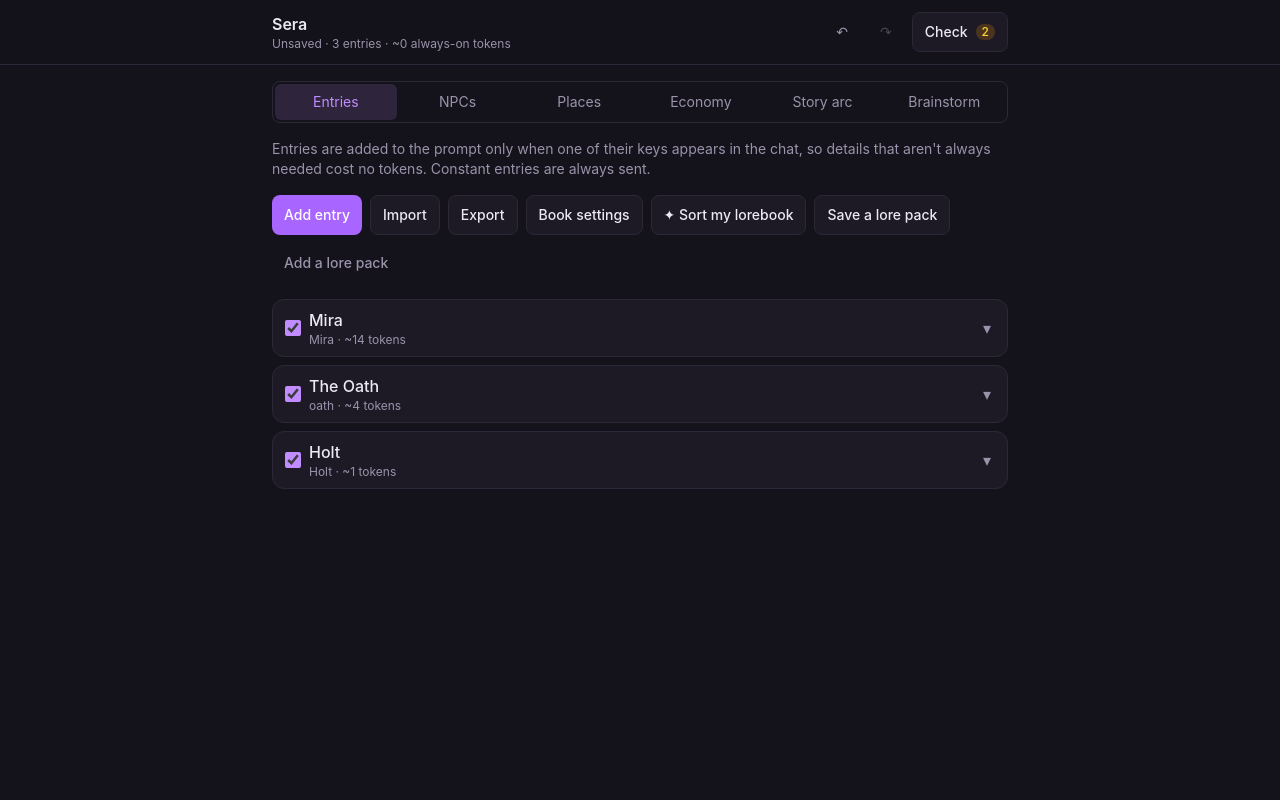
Test: Sort my lorebook › files plain entries under their pages with the co-writer, after review
Click the button "✦ Sort my lorebook". click: coordinates (729, 215)
box: [651,195,806,235]
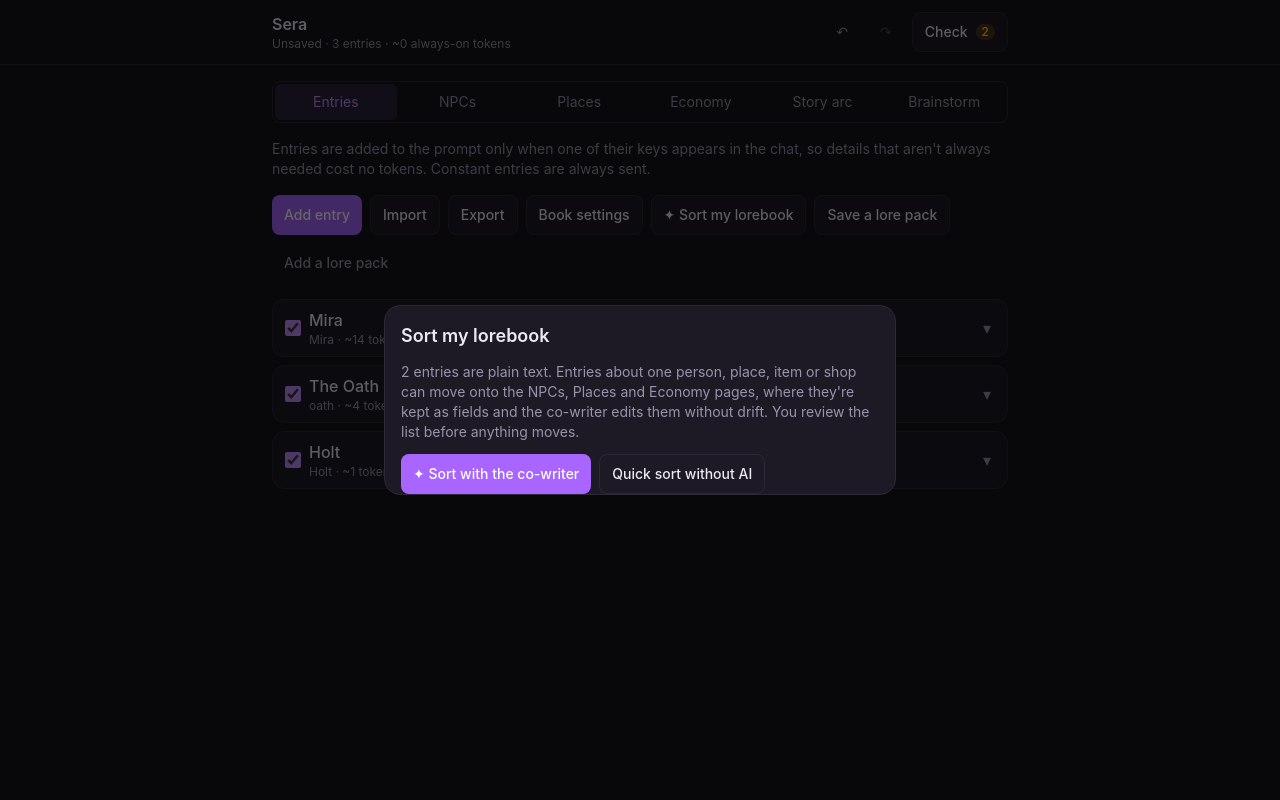
Expected: the text "2 entries are plain text" is shown, [401,362,879,442]
Click the button "✦ Sort with the co-writer". click: coordinates (496, 474)
box: [401,454,591,494]
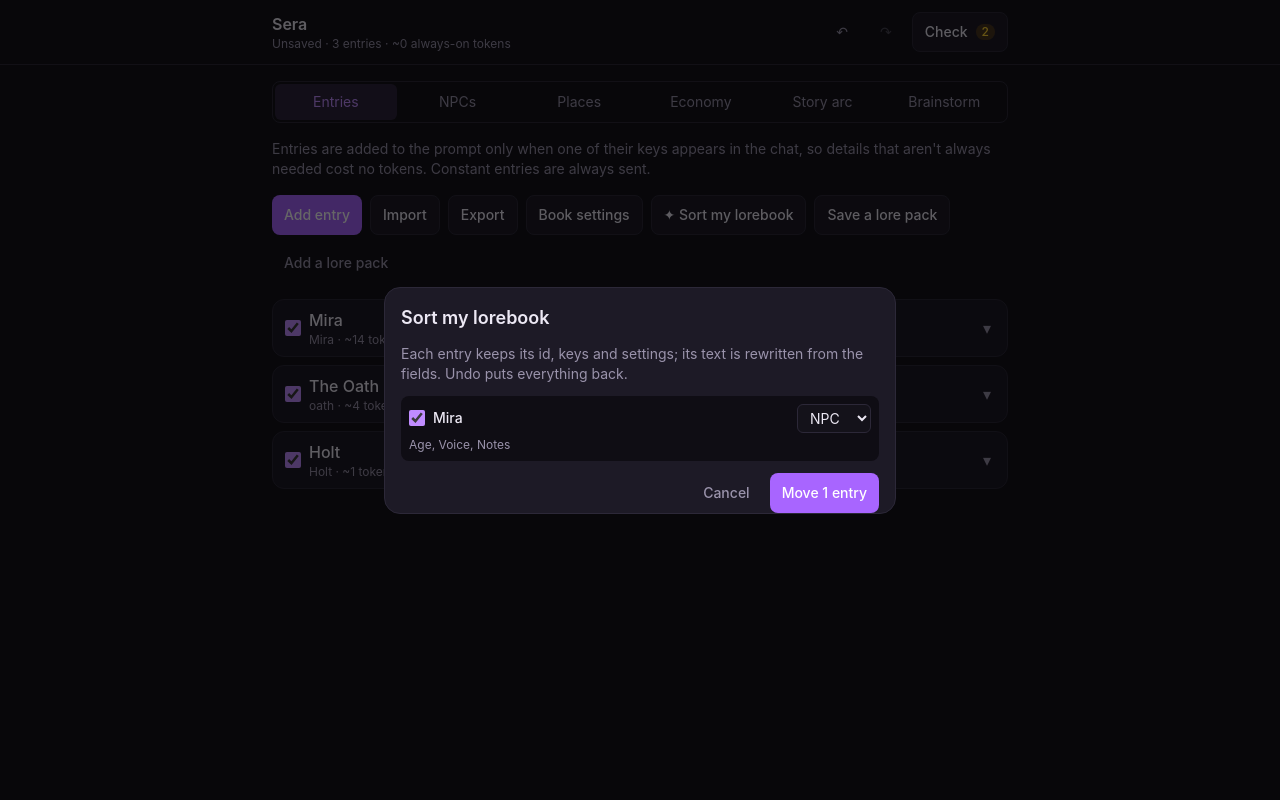
Expected: the text "Mira" is shown, [433,408,463,428]
Click the button "Move 1 entry". click: coordinates (824, 492)
box: [770,472,879,512]
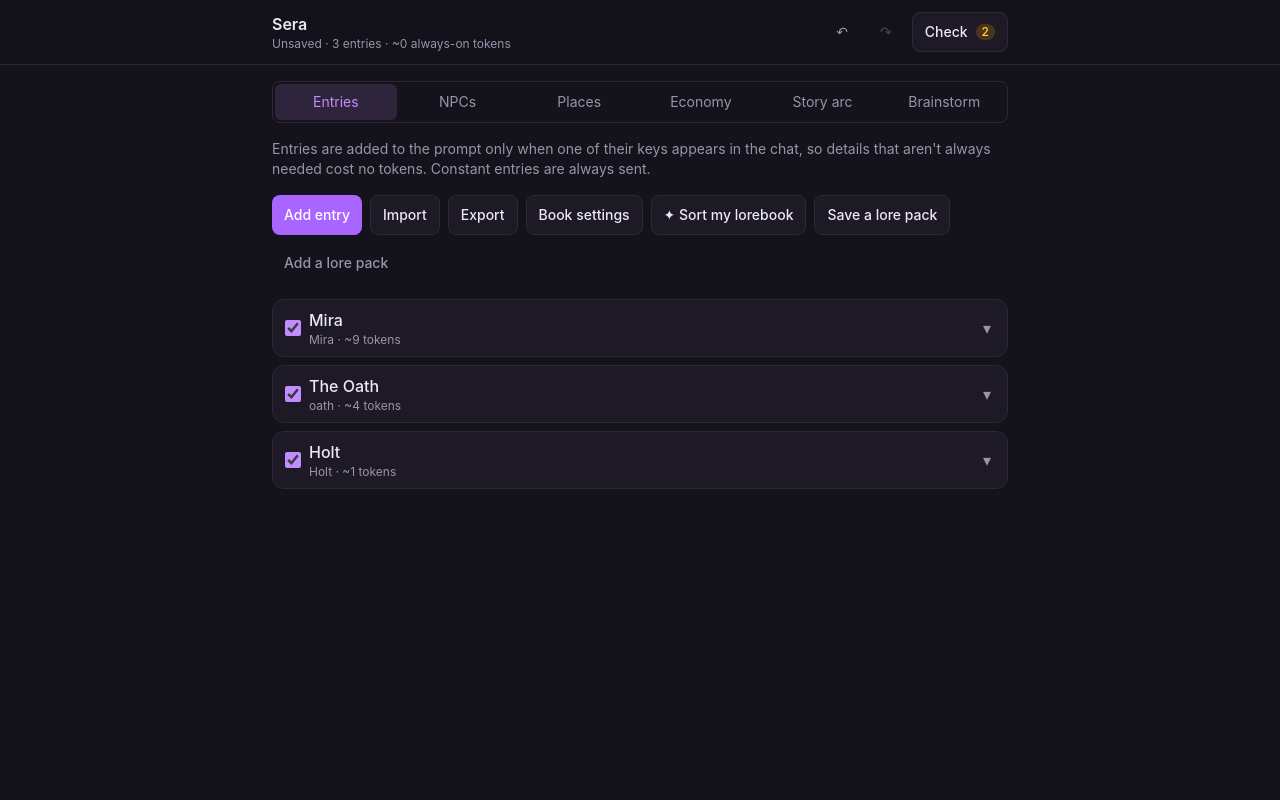
// Only The Oath is plain now.
Click the tab "NPCs". click: coordinates (458, 102)
box: [397,84,518,120]
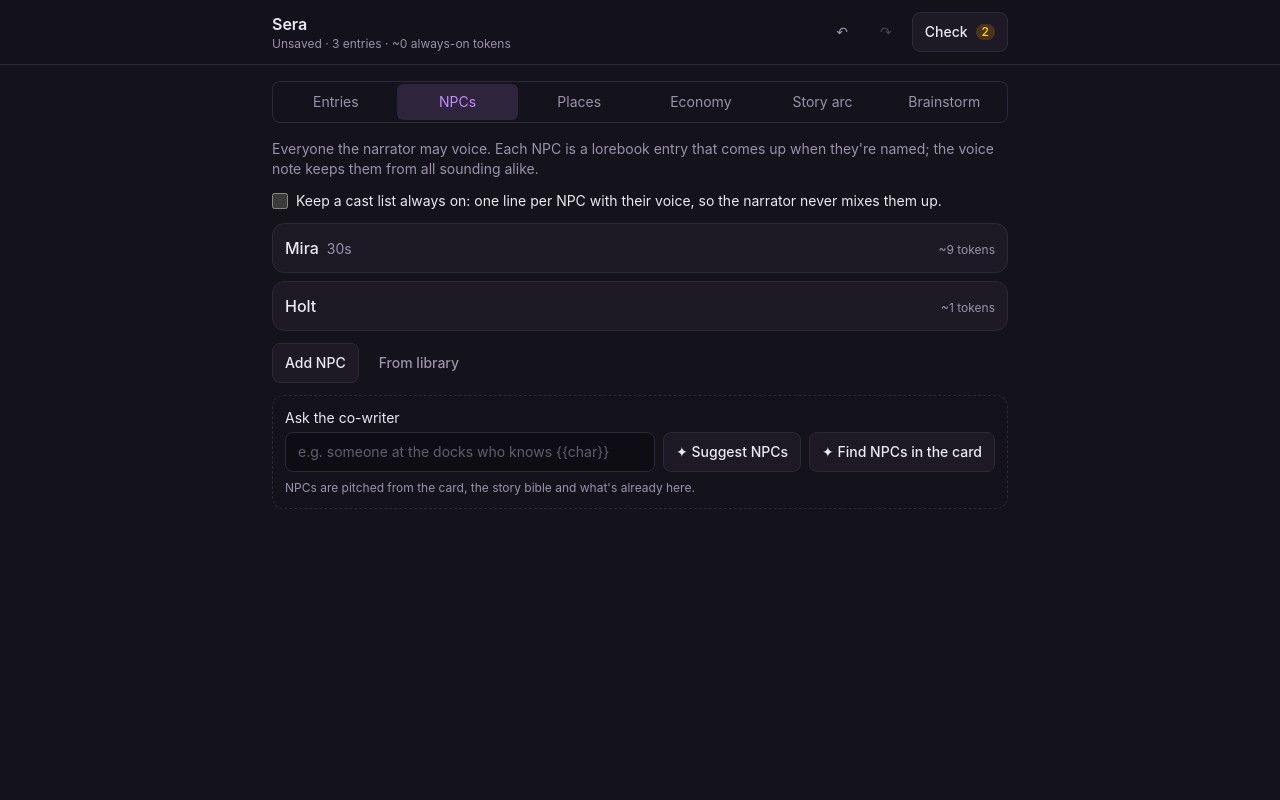
Expected: the button "Mira30s ~9 tokens" is shown, [273,224,1007,272]
